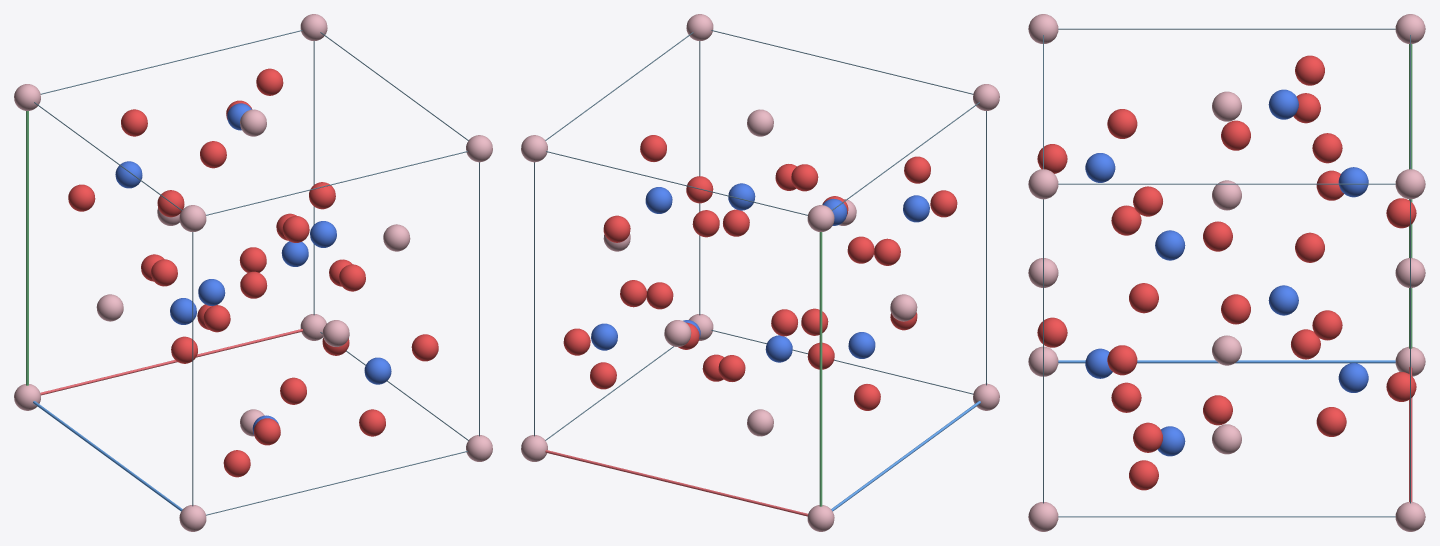
File: chat-strontium-nitrate.glb
The picture shows the model from 3 angles, left to right: view 1: azimuth 30°, elevation 25°; view 2: azimuth 150°, elevation 25°; view 3: azimuth 270°, elevation 25°; orthographic projection. The views are drawn at different scales.
Parts seen in each view (by area): view 1: O · O · 1 (×18), Sr · Sr · 1 (×11), Ô mạng và các trục a, b, c, N · N · 1 (×6); view 2: O · O · 1 (×17), Sr · Sr · 1 (×11), Ô mạng và các trục a, b, c, N · N · 1 (×6); view 3: O · O · 1 (×24), Sr · Sr · 1 (×14), N · N · 1 (×8), Ô mạng và các trục a, b, c.
Boxes of the visible parts, box(x1,y1,x2,y2) form: O · O · 1 (×18): box(68, 68, 438, 477); Sr · Sr · 1 (×11): box(14, 14, 492, 531); Ô mạng và các trục a, b, c: box(26, 30, 479, 515); N · N · 1 (×6): box(115, 161, 391, 384); O · O · 1 (×17): box(563, 135, 957, 410); Sr · Sr · 1 (×11): box(521, 14, 999, 531); Ô mạng và các trục a, b, c: box(534, 30, 986, 516); N · N · 1 (×6): box(591, 183, 929, 362); O · O · 1 (×24): box(1037, 55, 1416, 490); Sr · Sr · 1 (×14): box(1028, 14, 1425, 531); N · N · 1 (×8): box(1085, 89, 1368, 456); Ô mạng và các trục a, b, c: box(1043, 28, 1412, 517).
Bounding box in the file's own units: 8.42 × 8.42 × 8.42.
